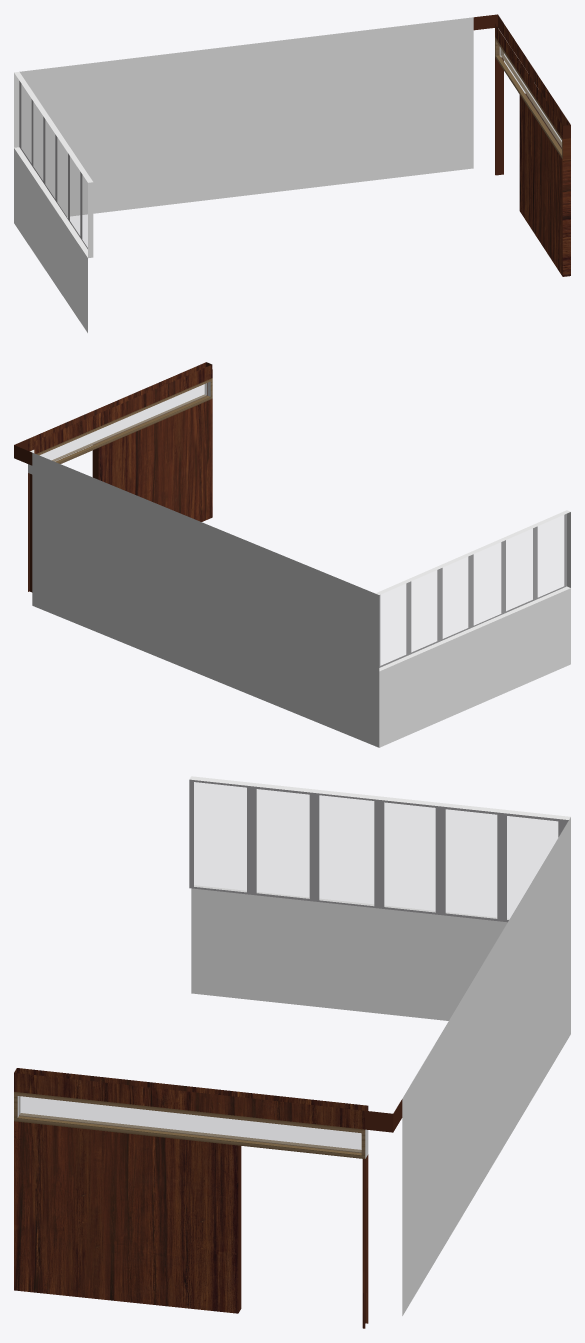
Rendered from lab_0_abajo.glb.
The picture shows the model from 3 angles, top to bottom: view 1: azimuth 30°, elevation 25°; view 2: azimuth 150°, elevation 25°; view 3: azimuth 270°, elevation 25°; orthographic projection. The views are drawn at different scales.
Visible parts, largest first — view 1: aula base.008; view 2: aula base.008; view 3: aula base.008.
Part boxes in pixels (x1,y1,x2,y2): aula base.008: (14, 14, 570, 332); aula base.008: (14, 362, 570, 747); aula base.008: (14, 776, 570, 1328).
Bounding box in the file's own units: 58.32 × 17.56 × 40.66.
Materials: 5 (2 with a texture image).
